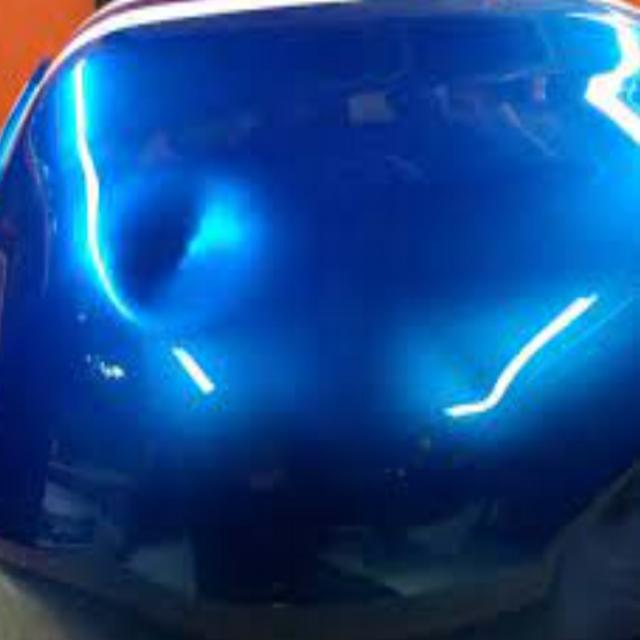dents: (89, 173, 295, 350)
